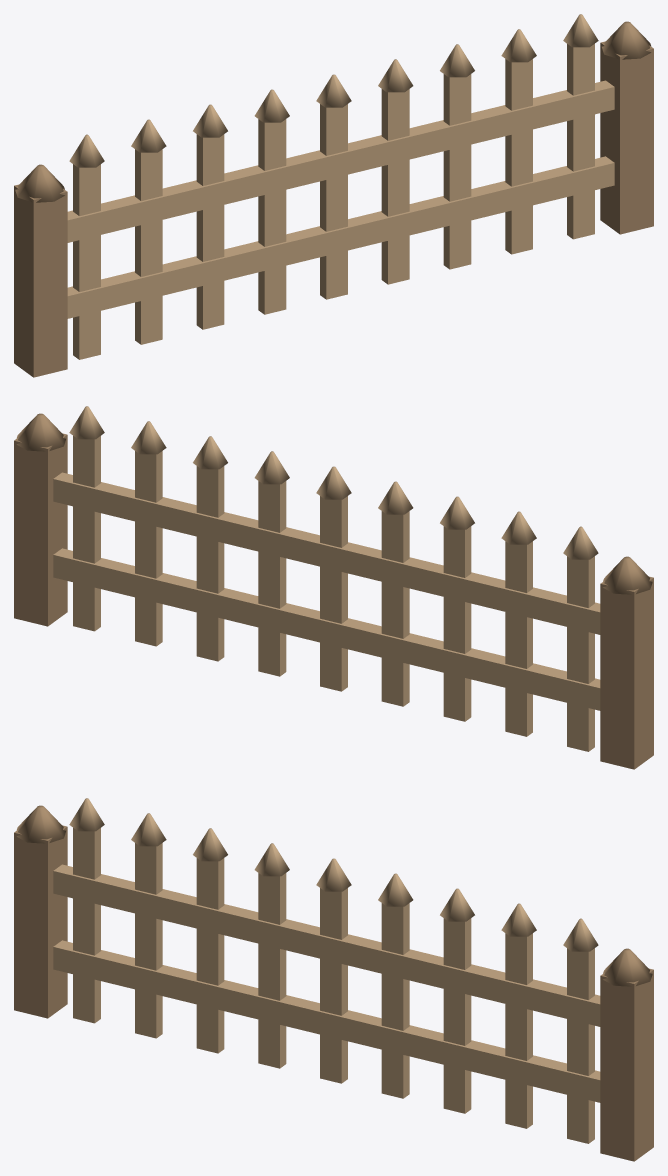
File: fence.fbx
3 renders of one model, top to bottom at view 1: azimuth 30°, elevation 25°; view 2: azimuth 150°, elevation 25°; view 3: azimuth 330°, elevation 25°, orthographic.
Parts seen in each view (by area): view 1: Fence; view 2: Fence; view 3: Fence.
Boxes of the visible parts, x1,y1,x2,y2 form: Fence: [14, 14, 653, 377]; Fence: [14, 406, 653, 769]; Fence: [14, 798, 653, 1161].
Size of the model in its own units: 4.1 by 1.36 by 0.3.
